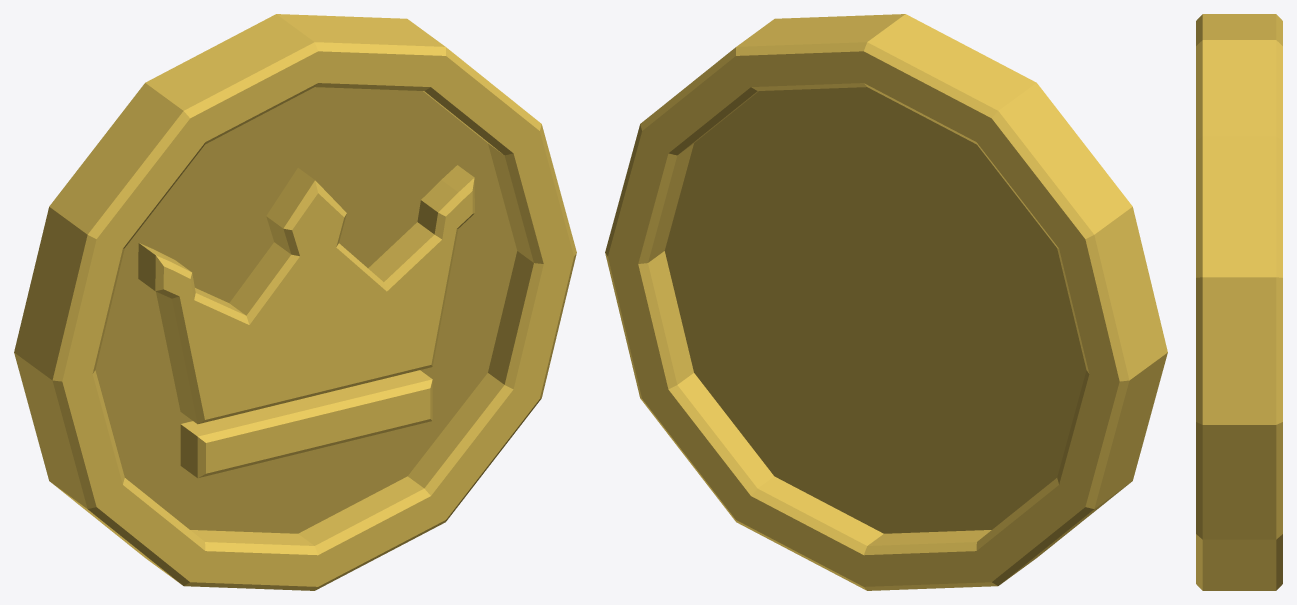
The model's file is CROWN_COIN.fbx.
3 views of the same model, side by side, from view 1: azimuth 30°, elevation 25°; view 2: azimuth 150°, elevation 25°; view 3: azimuth 270°, elevation 25° (orthographic). The views are drawn at different scales.
Parts seen in each view (by area): view 1: CROWN.001; view 2: CROWN.001; view 3: CROWN.001.
Part boxes in pixels (left/top/right/bottom): CROWN.001: left=14, top=14, right=576, bottom=590; CROWN.001: left=605, top=14, right=1167, bottom=590; CROWN.001: left=1196, top=14, right=1282, bottom=590.
Bounding box in the file's own units: 3 × 3 × 0.45.
